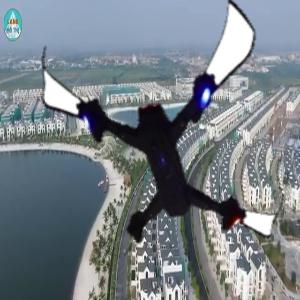drone: (31, 7, 282, 258)
